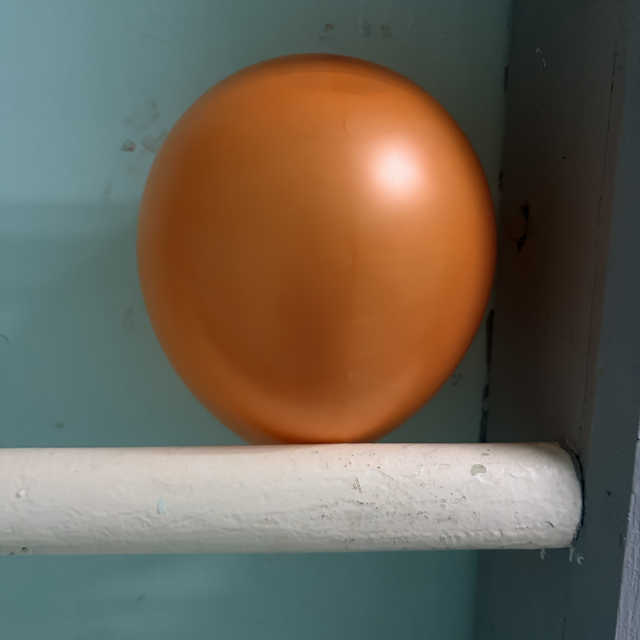balloon: (136, 53, 498, 446)
